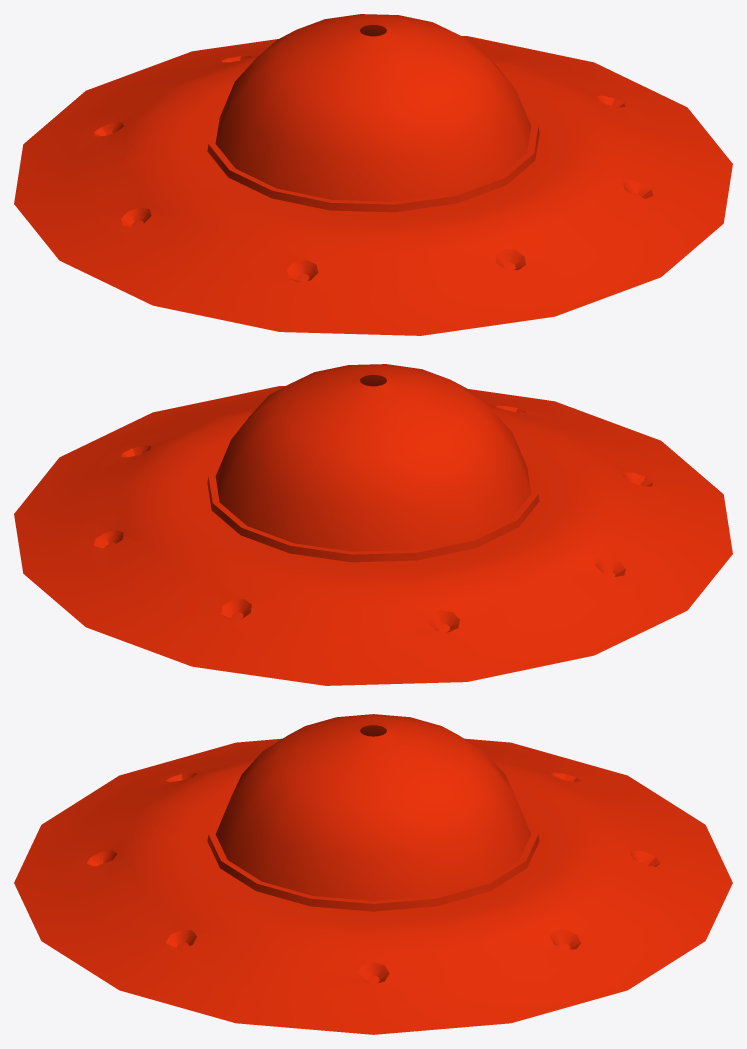
Rendered from The Hum.fbx.
3 renders of one model, top to bottom at view 1: azimuth 30°, elevation 25°; view 2: azimuth 150°, elevation 25°; view 3: azimuth 270°, elevation 25°, orthographic.
Parts seen in each view (by area): view 1: ufo; view 2: ufo; view 3: ufo.
Boxes of the visible parts, x1,y1,x2,y2 form: ufo: (14,14,732,335); ufo: (14,364,732,685); ufo: (14,714,732,1034).
Size of the model in its own units: 285 by 88.95 by 285.
